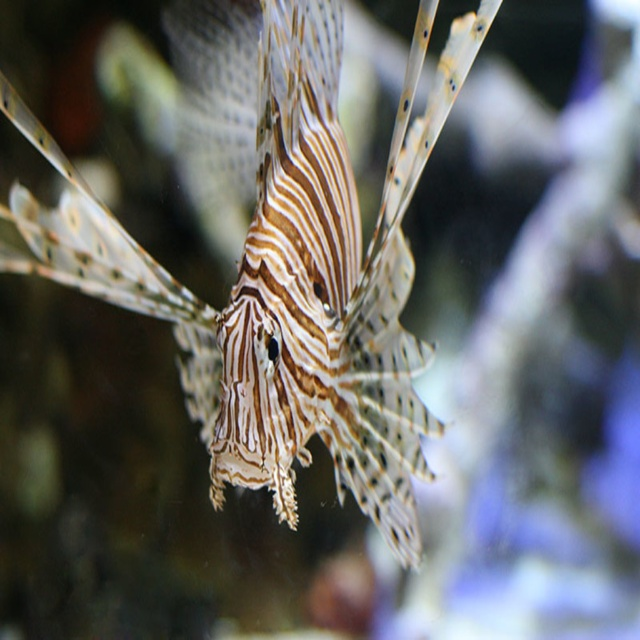Fish: (0, 0, 503, 572)
